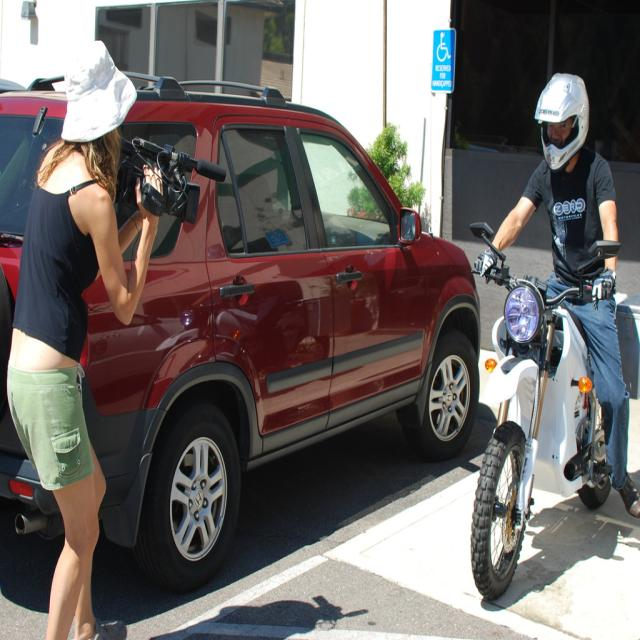car: (27, 104, 484, 593)
